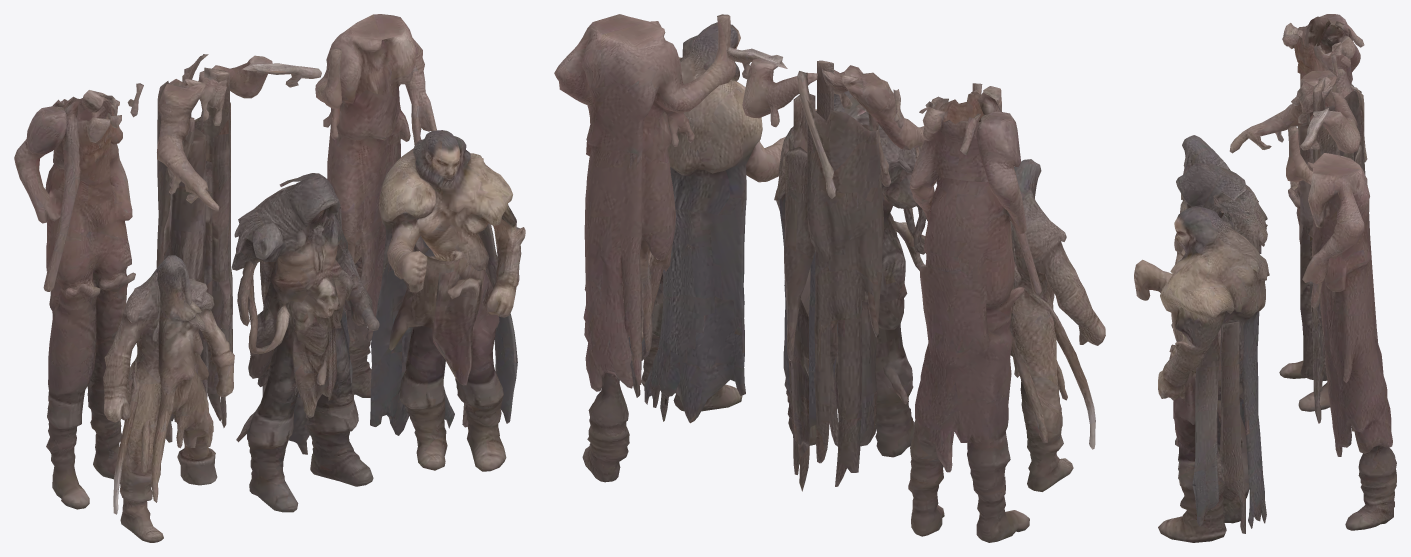
File: enemies_skullbound.glb
The picture shows the model from 3 angles, left to right: view 1: azimuth 30°, elevation 25°; view 2: azimuth 150°, elevation 25°; view 3: azimuth 270°, elevation 25°; orthographic projection. The views are drawn at different scales.
Size of the model in its own units: 1.86 by 1.67 by 1.08.
1 material, 1 textured.
